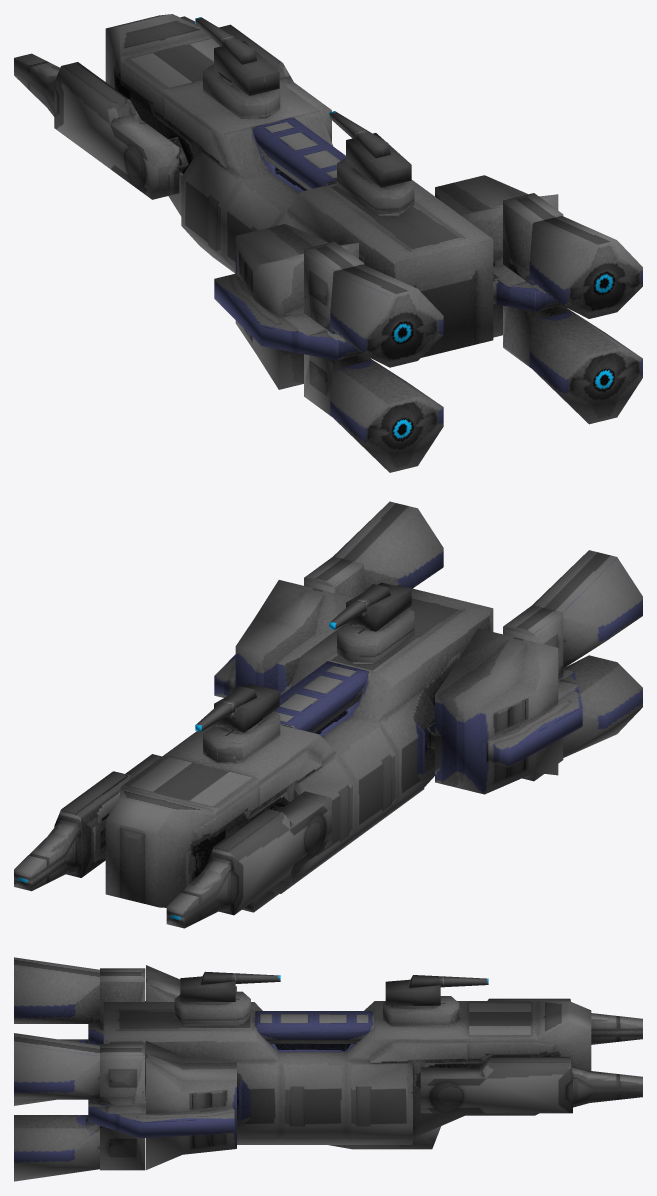
File: FedFrigate.fbx
3 views of the same model, one above another, from view 1: azimuth 30°, elevation 25°; view 2: azimuth 150°, elevation 25°; view 3: azimuth 270°, elevation 25° (orthographic). The views are drawn at different scales.
Visible parts, largest first — view 1: FedFrigateMod; view 2: FedFrigateMod; view 3: FedFrigateMod.
Boxes of the visible parts, <box> form: FedFrigateMod: <box>14,14,642,472</box>; FedFrigateMod: <box>14,501,642,928</box>; FedFrigateMod: <box>14,957,642,1181</box>.
Size of the model in its own units: 16.91 by 10.83 by 36.87.
Materials: 1 (1 with a texture image).
